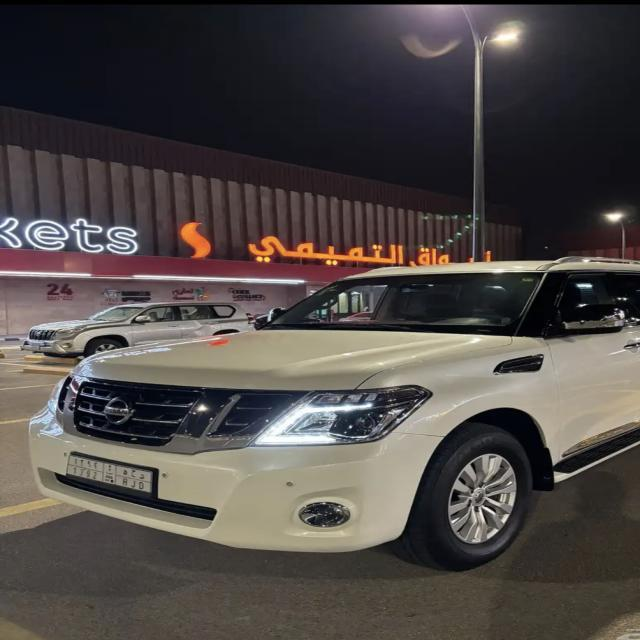license_plate: (68, 453, 152, 493)
